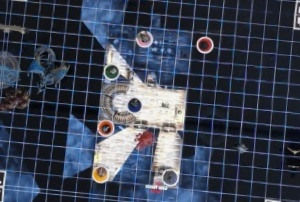blue: (126, 95, 142, 112)
green: (101, 60, 120, 79)
orange: (96, 117, 115, 137)
pink: (133, 27, 154, 48)
red: (195, 32, 216, 54)
violet: (160, 167, 181, 188)
yellow: (92, 163, 110, 183)
